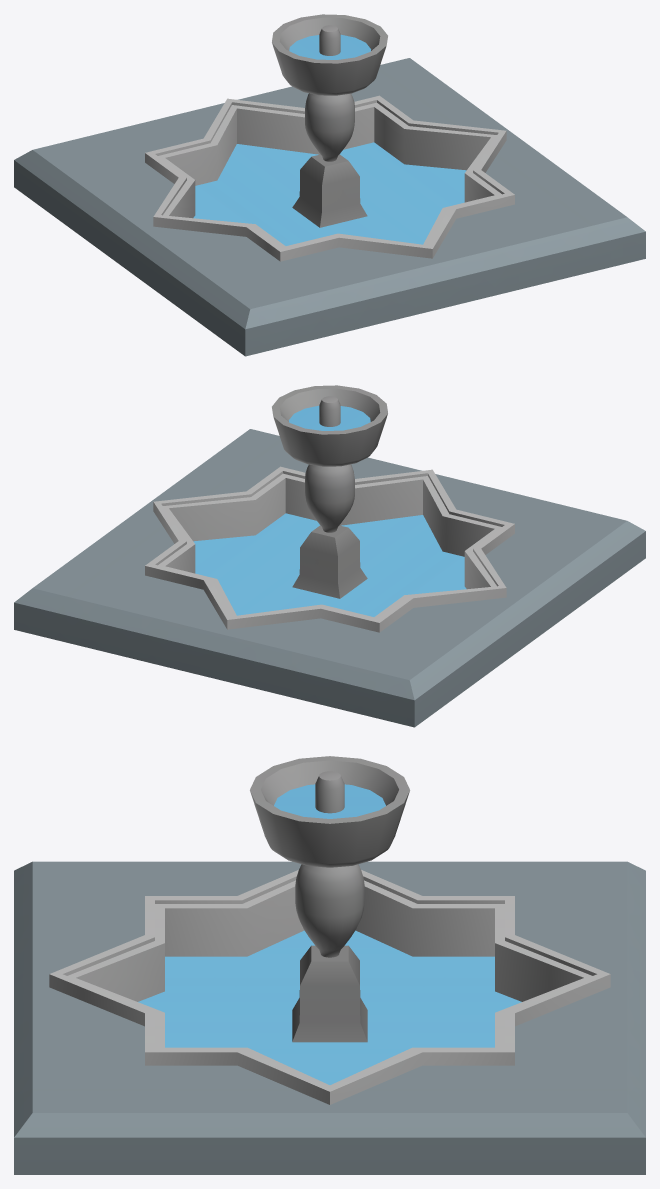
Rendered from Fountain.fbx.
3 renders of one model, top to bottom at view 1: azimuth 30°, elevation 25°; view 2: azimuth 150°, elevation 25°; view 3: azimuth 270°, elevation 25°, orthographic. The views are drawn at different scales.
Parts seen in each view (by area): view 1: Fountain; view 2: Fountain; view 3: Fountain.
Part boxes in pixels (left/top/right/bottom): Fountain: left=14, top=14, right=645, bottom=356; Fountain: left=14, top=385, right=645, bottom=727; Fountain: left=14, top=756, right=645, bottom=1174.
Bounding box in the file's own units: 3.69 × 3.69 × 1.72.
